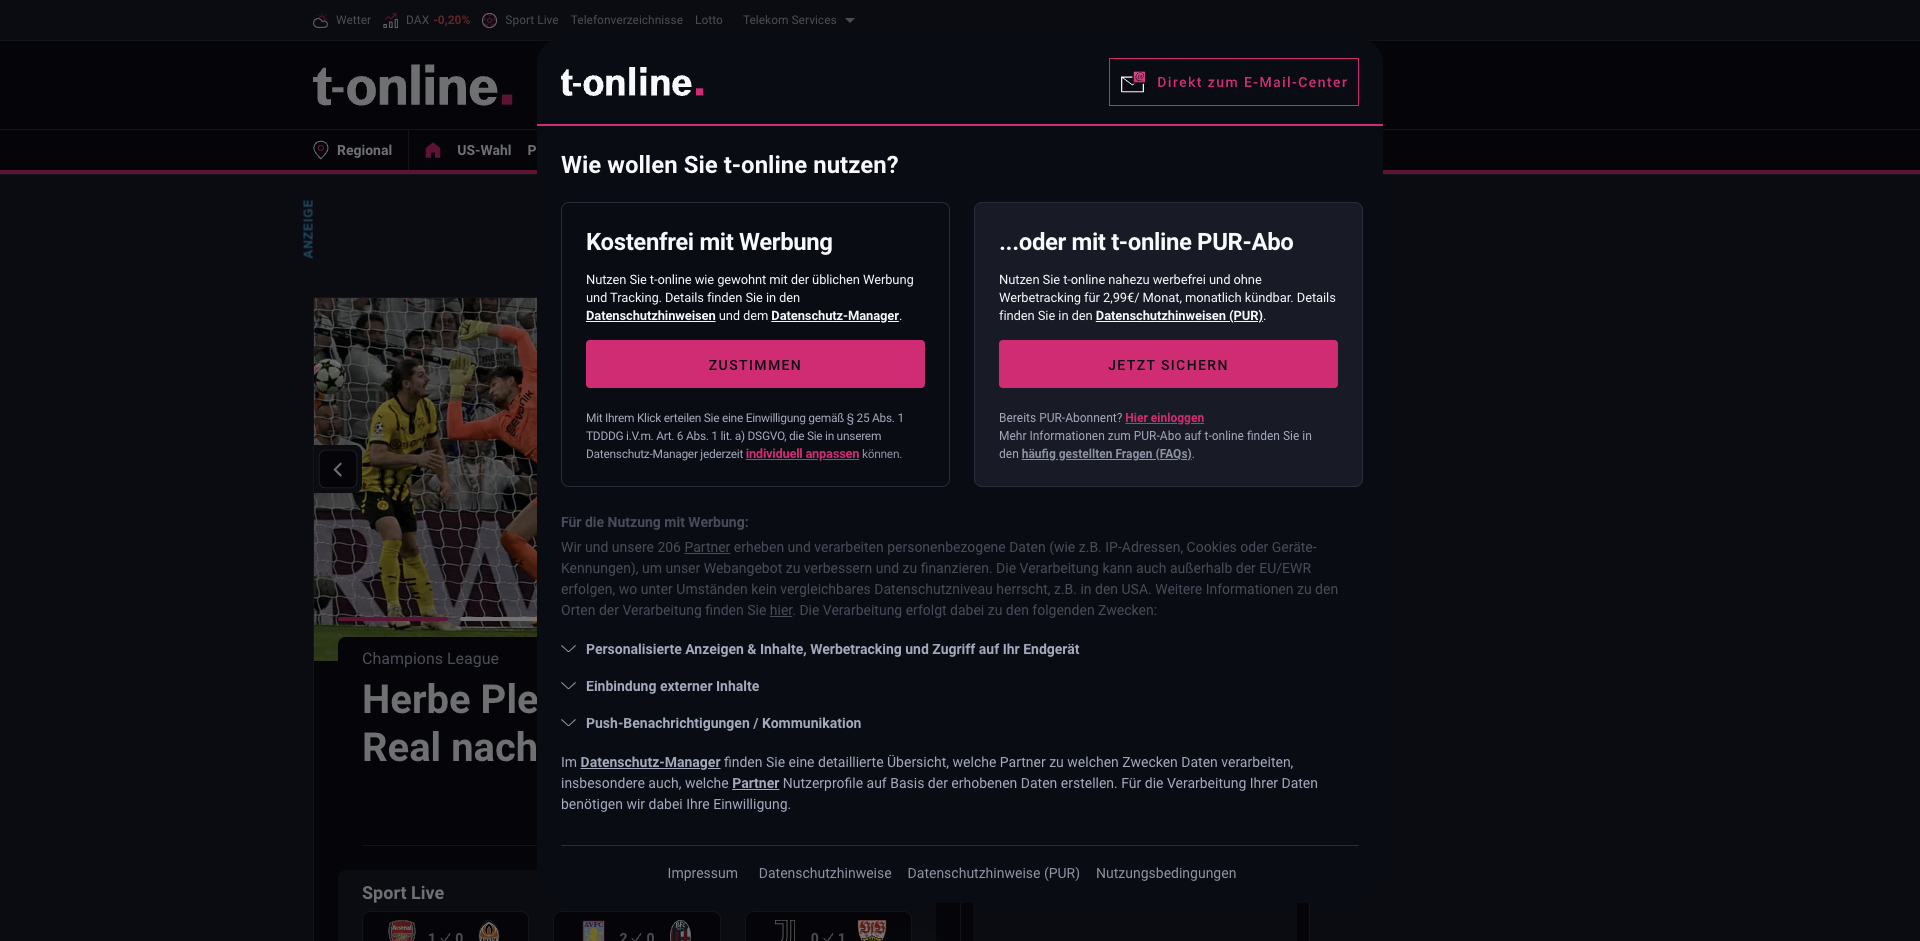button: (1149, 61, 1310, 109), (942, 61, 1029, 109), (1270, 130, 1310, 170), (1276, 76, 1297, 93), (1276, 77, 1296, 86)
input: (613, 61, 945, 109)
label: (613, 61, 945, 109), (698, 130, 838, 170), (735, 0, 863, 40), (1409, 130, 1501, 170), (1575, 130, 1660, 170), (853, 130, 936, 170), (1031, 130, 1103, 170), (951, 130, 1015, 170), (1729, 130, 1788, 170), (1281, 130, 1337, 170), (337, 130, 392, 170), (457, 130, 512, 170), (584, 130, 632, 170), (1517, 130, 1559, 170), (528, 130, 568, 170), (1353, 130, 1393, 170), (1119, 130, 1158, 170), (1174, 130, 1212, 170), (1676, 130, 1713, 170), (1229, 130, 1265, 170), (648, 130, 682, 170)
link: (313, 298, 960, 660), (976, 298, 1622, 660), (976, 637, 1622, 820), (1638, 298, 1920, 662), (313, 637, 960, 772), (1638, 637, 1920, 821), (313, 64, 513, 107), (710, 387, 851, 437), (984, 359, 1284, 376), (984, 392, 1284, 409), (984, 425, 1284, 442), (984, 523, 1284, 540), (984, 556, 1284, 573), (984, 589, 1284, 607), (984, 654, 1284, 671), (984, 687, 1284, 705), (984, 720, 1284, 738), (964, 214, 1104, 249), (1043, 214, 1184, 249), (1043, 507, 1184, 542), (984, 458, 1284, 474), (984, 491, 1284, 507), (984, 622, 1284, 638), (984, 771, 1284, 787), (1185, 301, 1327, 334), (710, 496, 851, 529), (710, 542, 851, 575), (571, 0, 683, 40), (984, 322, 1089, 359), (383, 0, 470, 40), (371, 920, 520, 941), (562, 920, 711, 941), (753, 920, 902, 941), (945, 920, 1095, 941), (1136, 920, 1286, 941), (1327, 920, 1477, 941), (1518, 920, 1668, 941), (482, 0, 558, 40), (698, 141, 838, 159), (1185, 186, 1327, 203), (1185, 214, 1327, 232), (1185, 244, 1327, 261), (1185, 272, 1327, 289), (1185, 347, 1327, 364), (1185, 404, 1327, 421), (1185, 462, 1327, 479), (349, 186, 490, 203), (349, 214, 490, 232), (349, 244, 490, 261), (349, 272, 490, 289), (349, 301, 490, 319), (349, 330, 490, 347), (540, 186, 681, 203), (540, 214, 681, 232), (540, 244, 681, 261), (540, 272, 681, 289), (660, 186, 801, 203), (660, 214, 801, 232), (660, 244, 801, 261), (660, 272, 801, 289), (660, 301, 801, 319), (660, 330, 801, 347), (660, 359, 801, 376), (660, 387, 801, 404), (660, 417, 801, 434), (660, 445, 801, 462), (660, 474, 801, 491), (710, 186, 851, 203), (710, 214, 851, 232), (710, 244, 851, 261), (710, 272, 851, 289), (710, 301, 851, 319), (710, 330, 851, 347), (710, 359, 851, 376), (866, 186, 1007, 203), (866, 214, 1007, 232), (866, 244, 1007, 261), (866, 272, 1007, 289), (866, 301, 1007, 319), (964, 186, 1104, 203), (964, 289, 1104, 306), (964, 347, 1104, 364), (964, 404, 1104, 421), (1043, 186, 1184, 203), (1043, 289, 1184, 306), (1043, 347, 1184, 364), (1043, 404, 1184, 421), (1131, 186, 1272, 203), (1131, 214, 1272, 232), (1131, 244, 1272, 261), (1131, 272, 1272, 289), (1131, 301, 1272, 319), (1131, 330, 1272, 347), (1131, 359, 1272, 376), (1131, 387, 1272, 404), (1131, 417, 1272, 434), (1240, 186, 1381, 203), (1240, 214, 1381, 232), (1240, 244, 1381, 261), (1240, 272, 1381, 289), (1240, 301, 1381, 319), (1240, 330, 1381, 347), (1293, 186, 1434, 203), (1293, 214, 1434, 232), (1293, 244, 1434, 261), (1293, 272, 1434, 289), (1293, 301, 1434, 319), (1293, 330, 1434, 347), (1293, 359, 1434, 376), (1293, 387, 1434, 404), (313, 445, 362, 493), (313, 0, 371, 40), (912, 445, 960, 493), (1185, 376, 1327, 392), (1185, 434, 1327, 450), (1185, 491, 1327, 507), (964, 261, 1104, 277), (964, 319, 1104, 334), (964, 376, 1104, 392), (964, 434, 1104, 450), (1043, 261, 1184, 277), (1043, 319, 1184, 334), (1043, 376, 1184, 392), (1043, 434, 1184, 450), (798, 883, 912, 901), (1409, 141, 1501, 159), (743, 53, 855, 67), (743, 80, 855, 94), (743, 105, 855, 120), (743, 132, 855, 147), (743, 158, 855, 173), (743, 185, 855, 200), (743, 211, 855, 225), (1575, 141, 1660, 159), (853, 141, 936, 159), (408, 130, 441, 170), (1031, 141, 1103, 159), (951, 141, 1015, 159), (696, 0, 722, 40), (1729, 141, 1788, 159), (1281, 141, 1337, 159), (337, 141, 392, 159), (457, 141, 512, 159), (584, 141, 632, 159), (1517, 141, 1559, 159), (528, 141, 568, 159), (1353, 141, 1393, 159), (1119, 141, 1158, 159), (1174, 141, 1212, 159), (1676, 141, 1713, 159), (1229, 141, 1265, 159), (648, 141, 682, 159)
